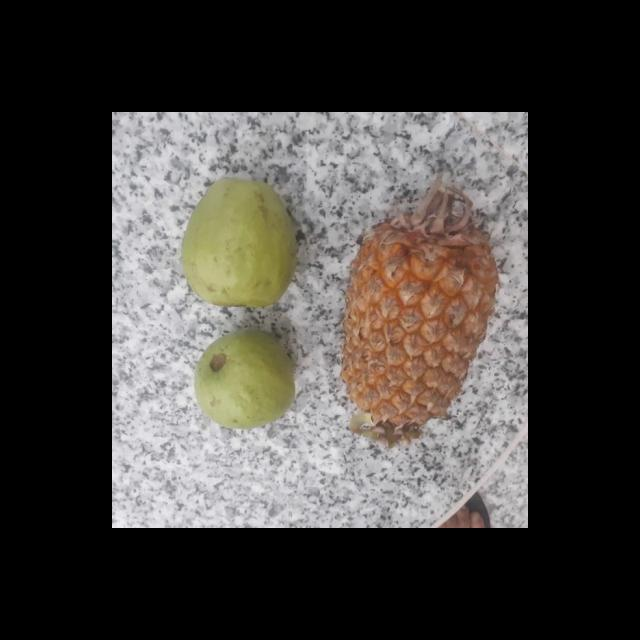guava: (178, 178, 302, 306), (188, 332, 296, 428)
pineapple: (337, 217, 499, 438)
